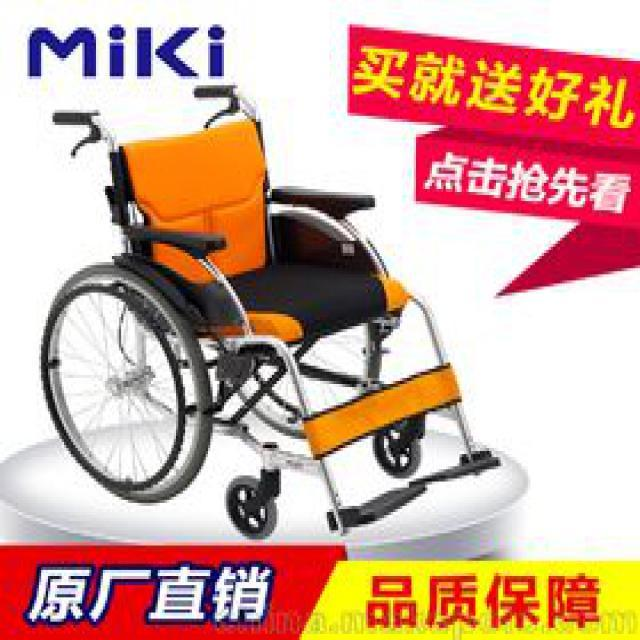wheelchair: (25, 89, 521, 548)
